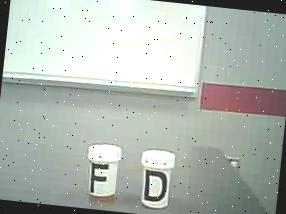Bottle D: (132, 144, 184, 214)
Bottle F: (78, 138, 128, 209)
